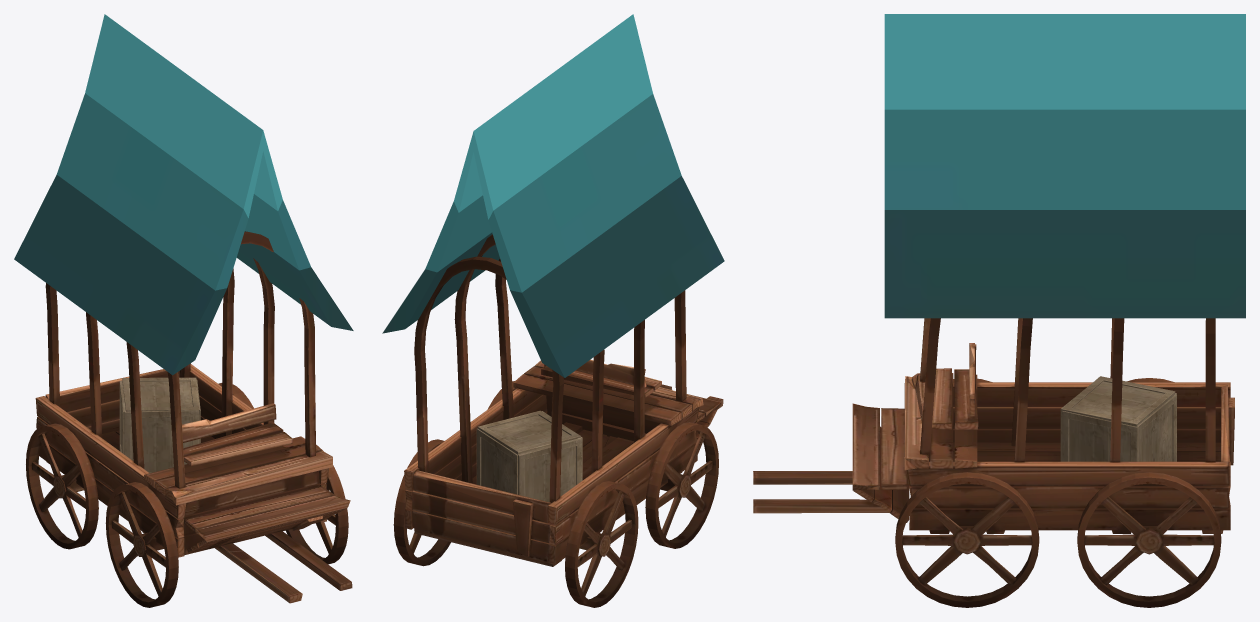
3 views of the same model, side by side, from view 1: azimuth 30°, elevation 25°; view 2: azimuth 150°, elevation 25°; view 3: azimuth 270°, elevation 25° (orthographic). The views are drawn at different scales.
Visible parts, largest first — view 1: slot_canvas_top, slot_anchor_frame, slot_front_wheels, slot_bed_barrel; view 2: slot_canvas_top, slot_anchor_frame, slot_bed_barrel, slot_front_wheels; view 3: slot_canvas_top, slot_anchor_frame, slot_front_wheels, slot_bed_barrel.
Boxes of the visible parts, <box> form: slot_canvas_top: <box>14,14,353,375</box>; slot_anchor_frame: <box>26,231,352,603</box>; slot_front_wheels: <box>105,444,348,607</box>; slot_bed_barrel: <box>119,377,200,472</box>; slot_canvas_top: <box>382,14,724,377</box>; slot_anchor_frame: <box>393,234,723,607</box>; slot_bed_barrel: <box>476,410,582,502</box>; slot_front_wheels: <box>487,381,718,548</box>; slot_canvas_top: <box>884,14,1245,318</box>; slot_anchor_frame: <box>753,318,1234,607</box>; slot_front_wheels: <box>895,378,1039,607</box>; slot_bed_barrel: <box>1060,376,1176,461</box>.
Bounding box in the file's own units: 0.9701 × 2.44 × 2.01.
Materials: 3 (3 with a texture image).
